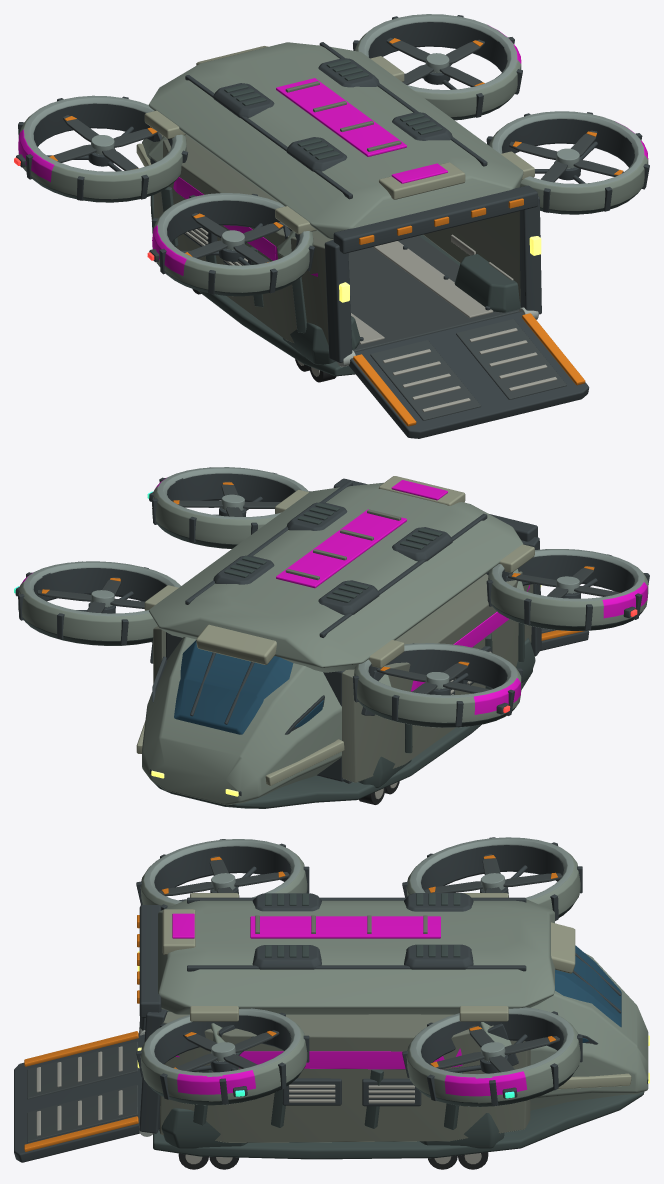
File: heavy-air-transport.glb
3 renders of one model, top to bottom at view 1: azimuth 30°, elevation 25°; view 2: azimuth 150°, elevation 25°; view 3: azimuth 270°, elevation 25°, orthographic. The views are drawn at different scales.
Parts seen in each view (by area): view 1: Airframe, RampHinge, FanNacelleL1, FanNacelleL2, FanNacelleR2, FanNacelleR1, FanRotorL1, FanRotorR1, FanRotorR2, FanRotorL2; view 2: Airframe, FanNacelleL1, FanNacelleL2, FanNacelleR1, FanNacelleR2, FanRotorL1, FanRotorR1, FanRotorL2, FanRotorR2, RampHinge; view 3: Airframe, RampHinge, FanNacelleR1, FanNacelleR2, FanNacelleL1, FanNacelleL2, FanRotorR1, FanRotorR2, FanRotorL1, FanRotorL2.
Part boxes in pixels (left/top/right/bottom): Airframe: left=136, top=42, right=541, bottom=382; RampHinge: left=348, top=311, right=589, bottom=438; FanNacelleL1: left=14, top=95, right=187, bottom=202; FanNacelleL2: left=147, top=193, right=314, bottom=296; FanNacelleR2: left=486, top=111, right=649, bottom=214; FanNacelleR1: left=353, top=14, right=522, bottom=120; FanRotorL1: left=49, top=115, right=158, bottom=170; FanRotorR1: left=386, top=37, right=484, bottom=86; FanRotorR2: left=509, top=130, right=623, bottom=182; FanRotorL2: left=185, top=213, right=285, bottom=264; Airframe: left=136, top=476, right=541, bottom=808; FanNacelleL1: left=353, top=643, right=522, bottom=727; FanNacelleL2: left=486, top=549, right=649, bottom=630; FanNacelleR1: left=14, top=561, right=180, bottom=645; FanNacelleR2: left=147, top=467, right=310, bottom=548; FanRotorL1: left=376, top=661, right=489, bottom=694; FanRotorR1: left=37, top=577, right=144, bottom=612; FanRotorL2: left=508, top=566, right=620, bottom=597; FanRotorR2: left=173, top=481, right=280, bottom=516; RampHinge: left=540, top=628, right=589, bottom=650; Airframe: left=137, top=893, right=649, bottom=1169; RampHinge: left=14, top=1031, right=144, bottom=1162; FanNacelleR1: left=402, top=1007, right=582, bottom=1106; FanNacelleR2: left=136, top=1008, right=309, bottom=1105; FanNacelleL1: left=402, top=837, right=582, bottom=920; FanNacelleL2: left=136, top=839, right=309, bottom=910; FanRotorR1: left=430, top=1025, right=559, bottom=1072; FanRotorR2: left=174, top=1030, right=279, bottom=1071; FanRotorL1: left=424, top=854, right=561, bottom=892; FanRotorL2: left=158, top=856, right=289, bottom=896.
Bounding box in the file's own units: 5.99 × 2.21 × 6.48.
